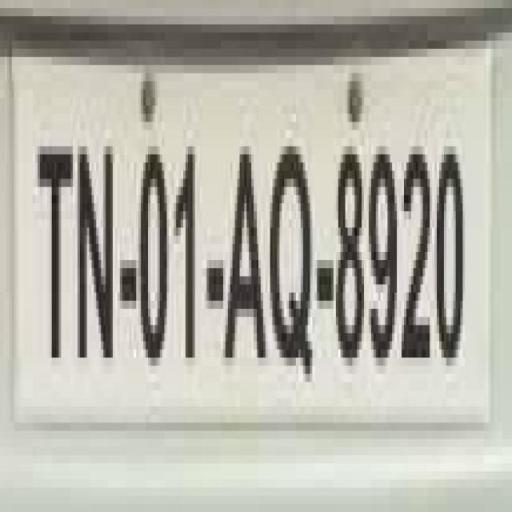number plate: (23, 16, 507, 439)
